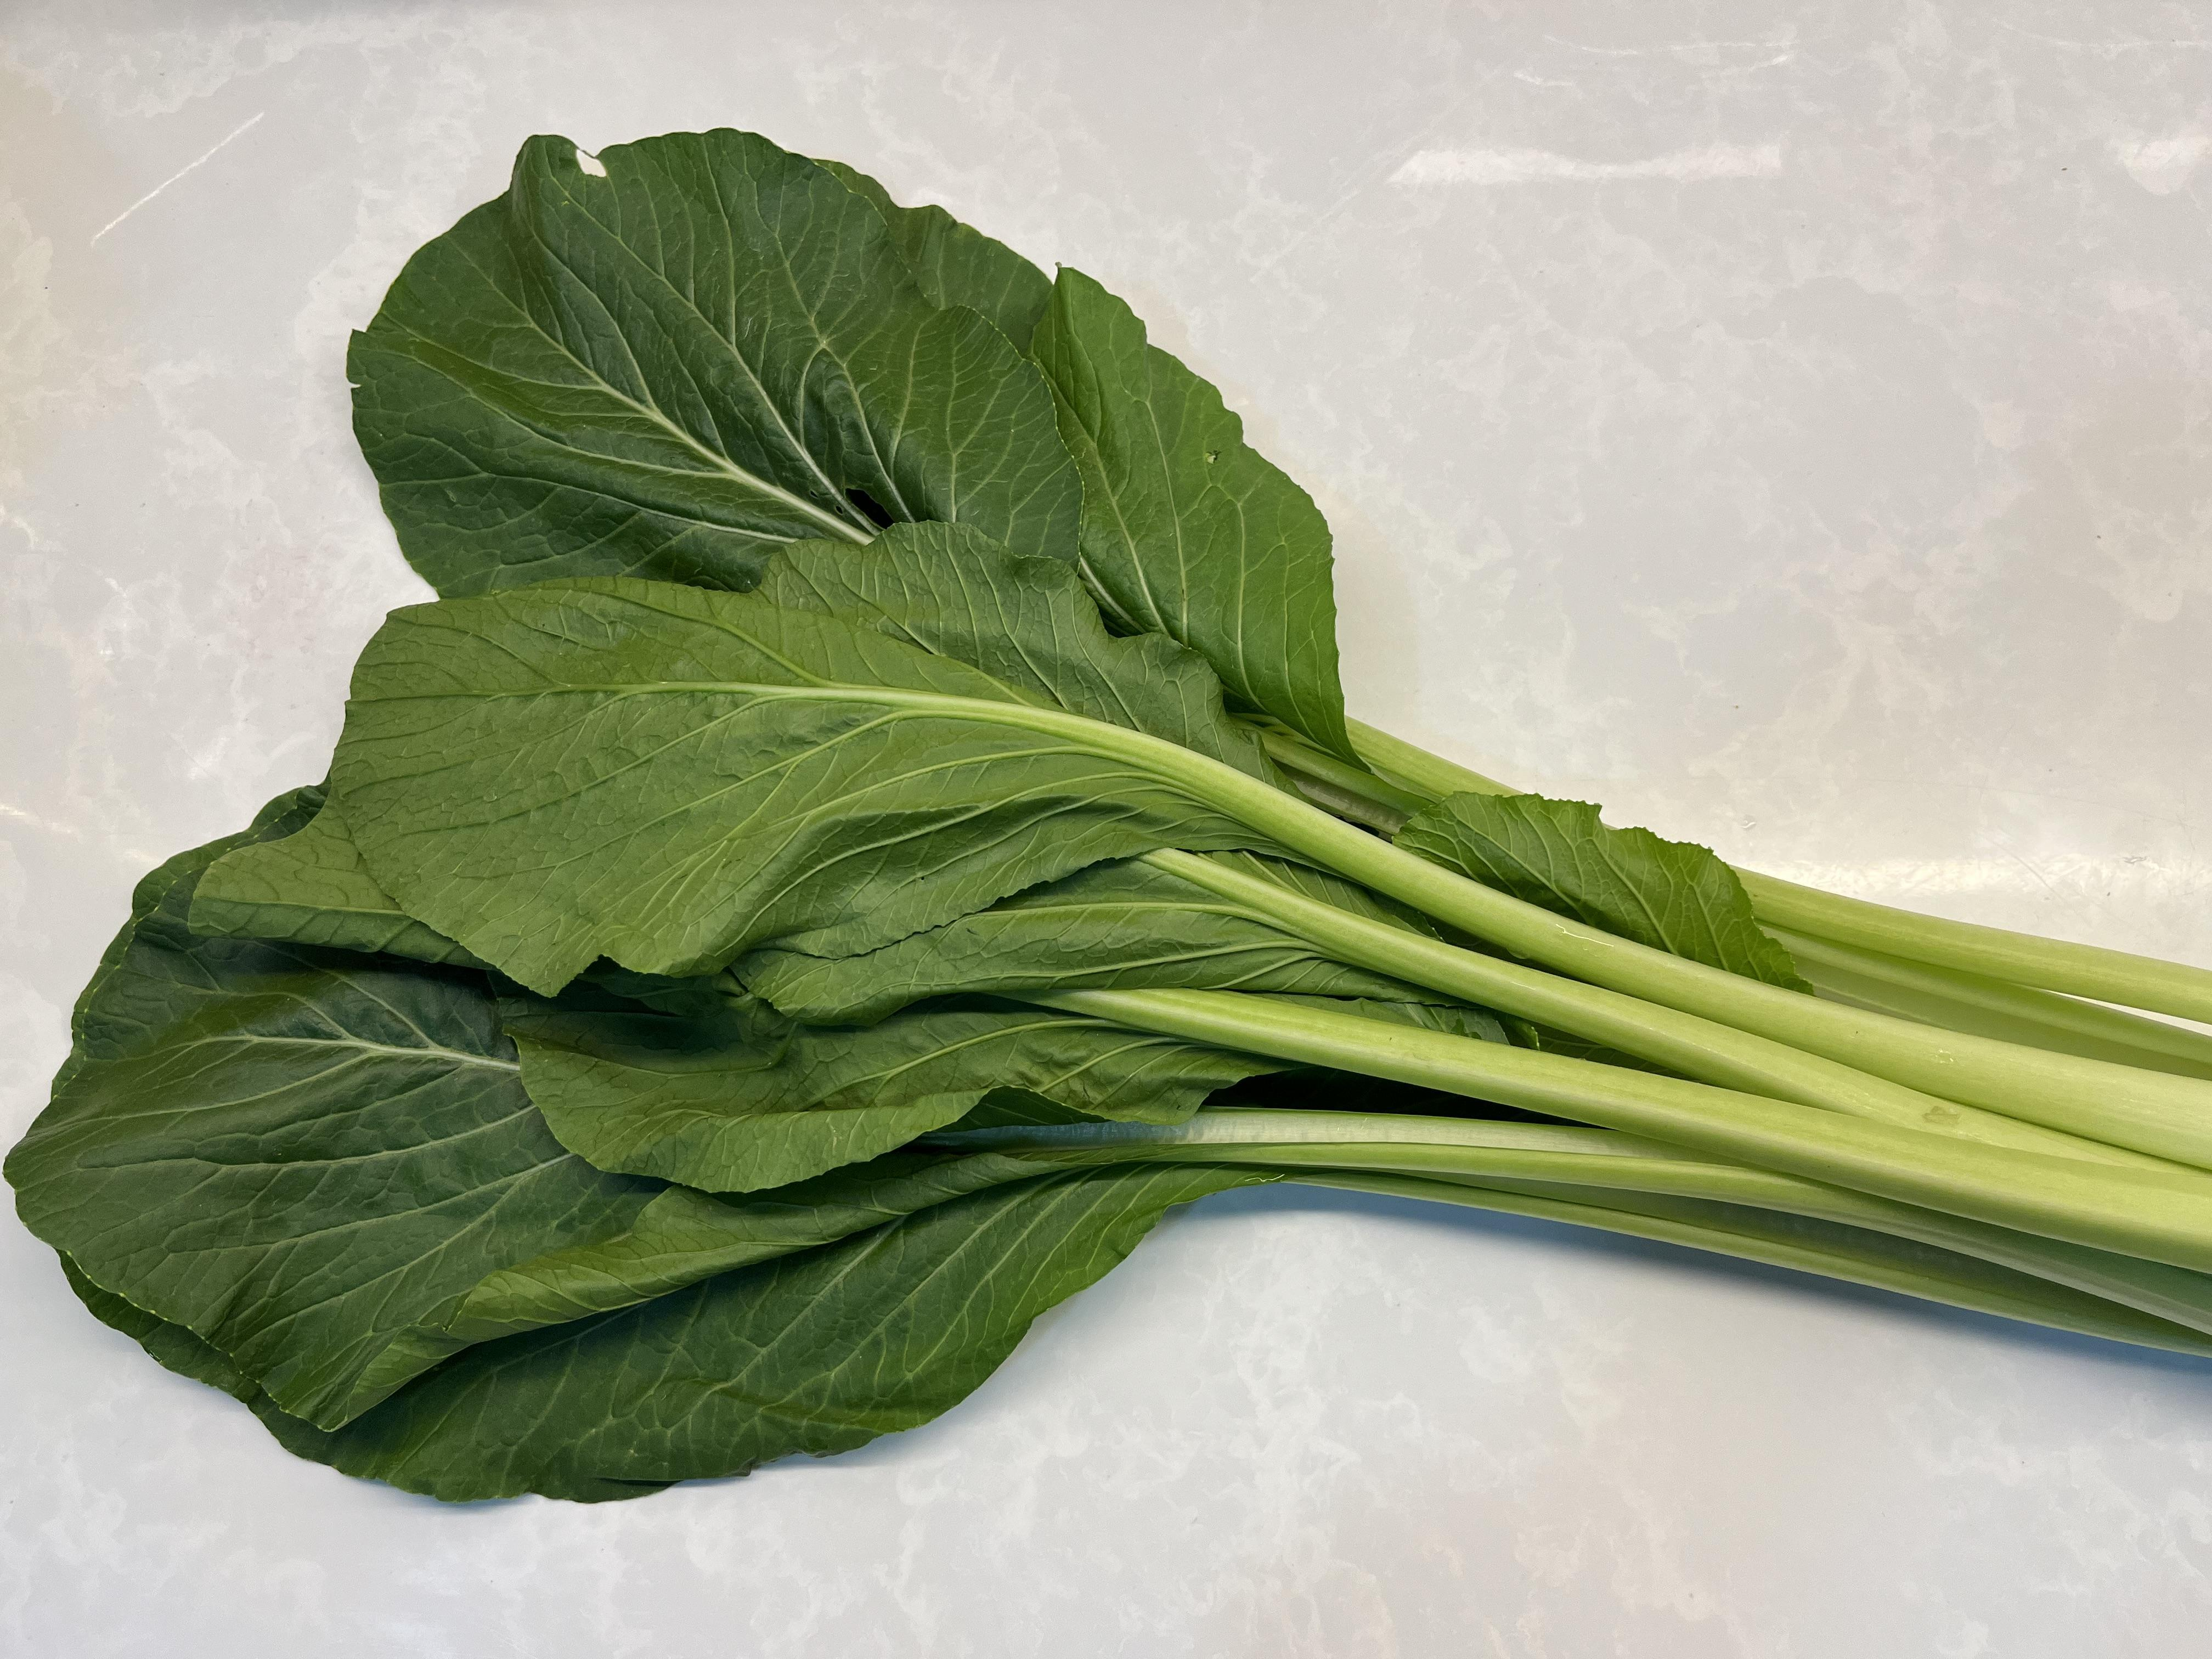Healthy-Pechay: (164, 54, 2118, 1377)
